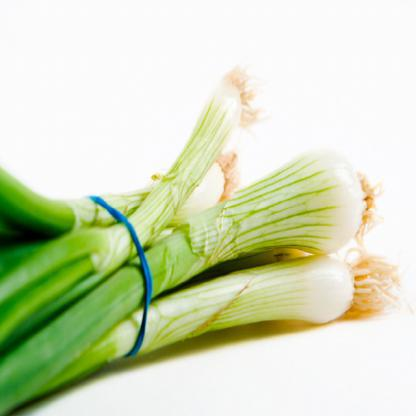green onion: (0, 150, 383, 413)
